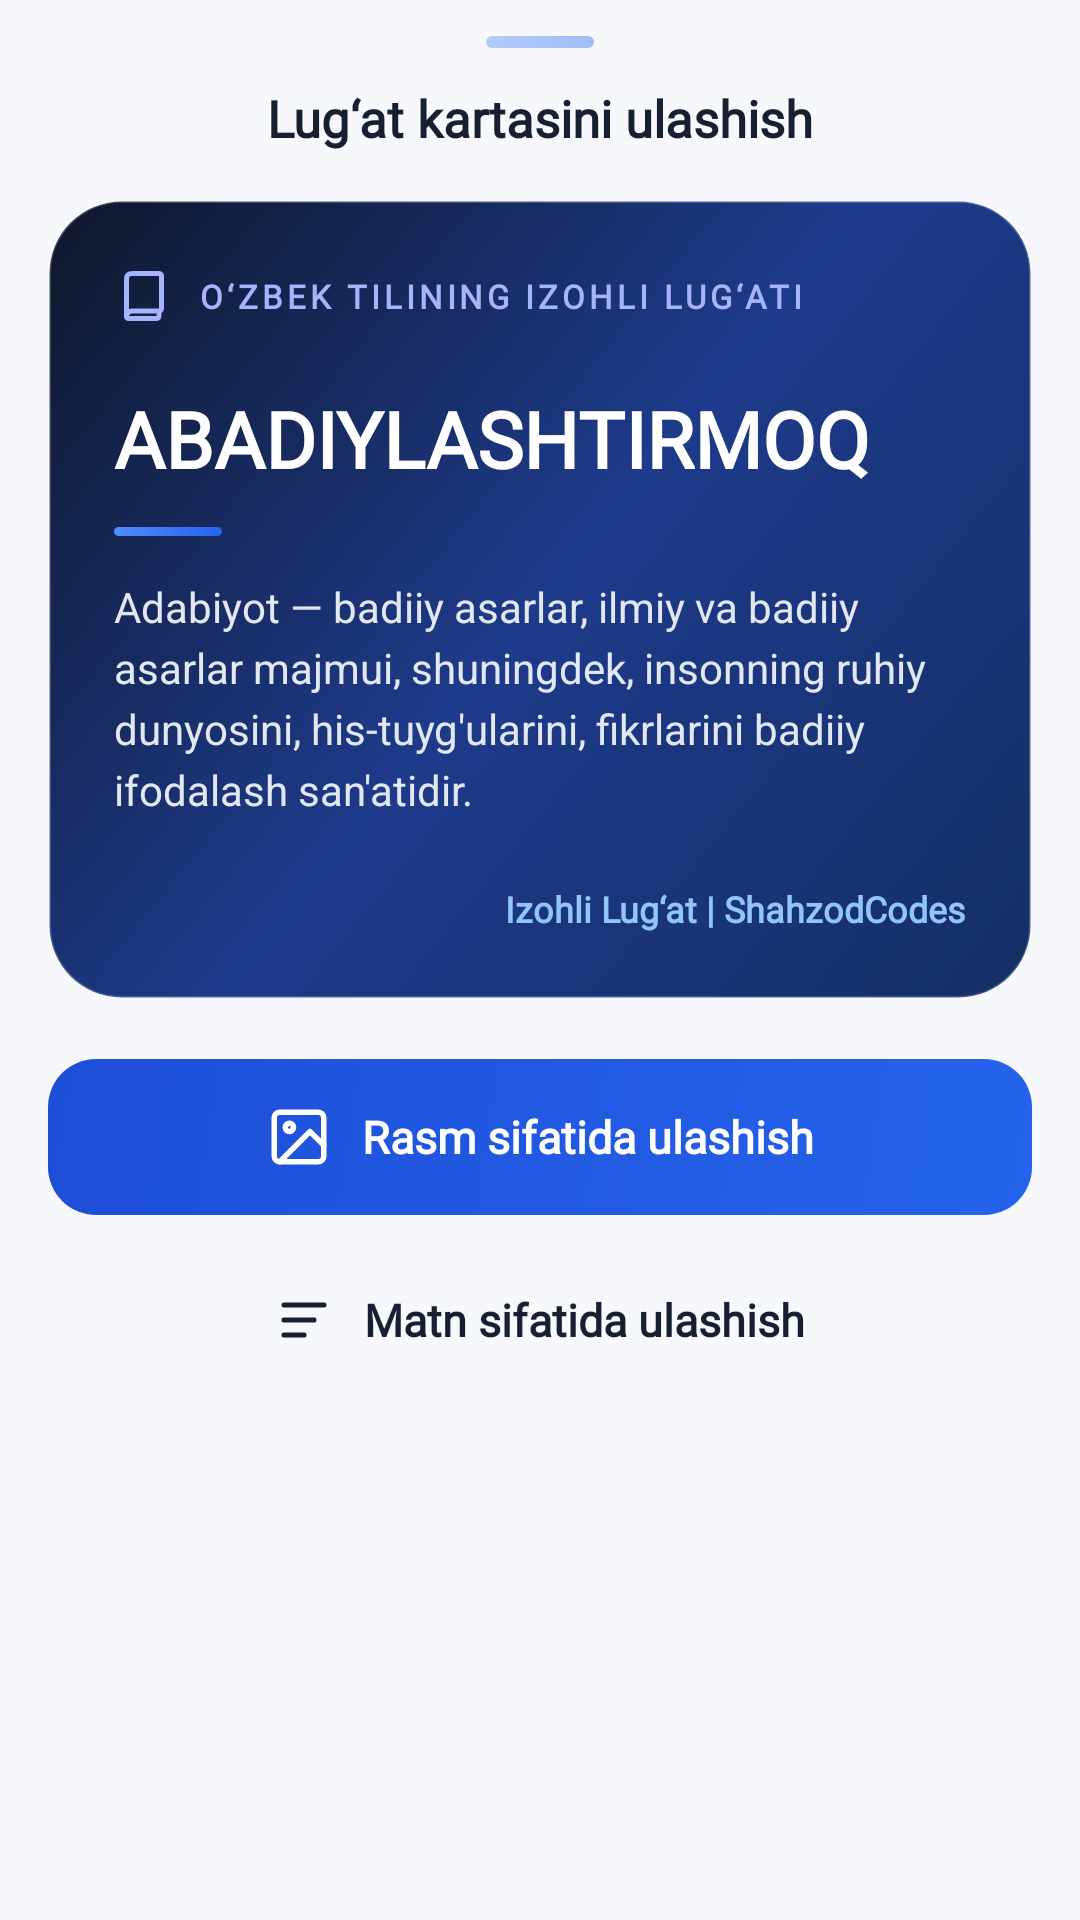

Where icons sit on this 1080x1920 app screen, as (x1, y1, x2, y2):
book: (124, 271, 164, 321)
